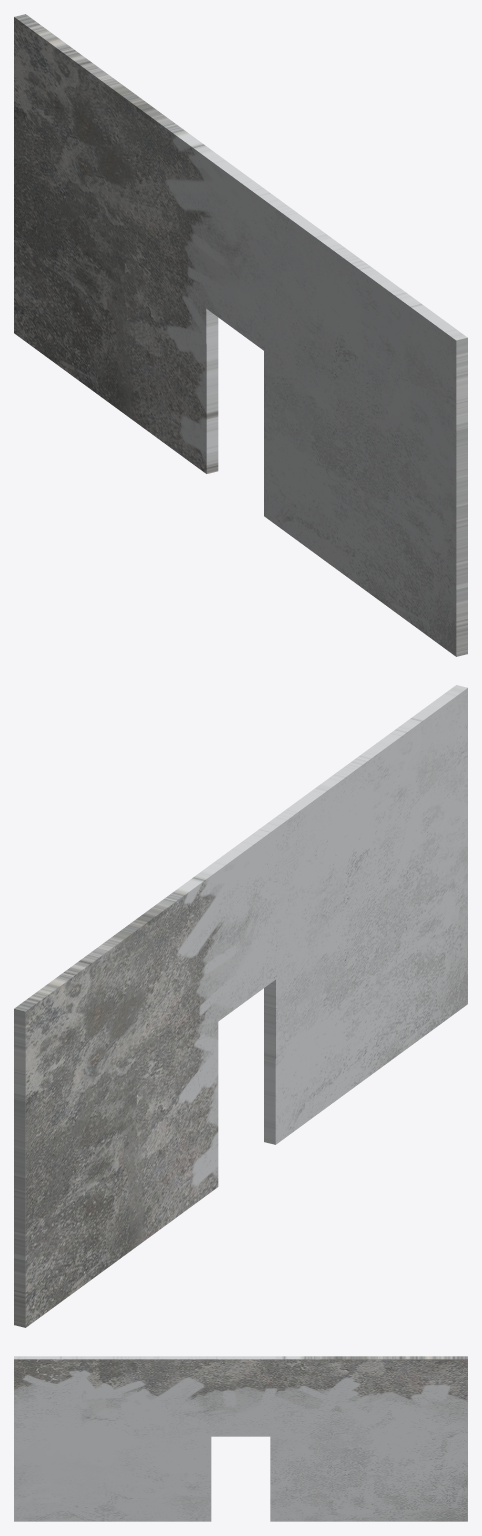
The model's file is doorwall (1).fbx.
3 renders of one model, top to bottom at view 1: azimuth 30°, elevation 25°; view 2: azimuth 150°, elevation 25°; view 3: azimuth 270°, elevation 25°, orthographic. The views are drawn at different scales.
Parts seen in each view (by area): view 1: JekRunway.001; view 2: JekRunway.001; view 3: JekRunway.001.
Boxes of the visible parts, left/top/right/bottom form: JekRunway.001: left=14, top=14, right=467, bottom=656; JekRunway.001: left=14, top=685, right=467, bottom=1327; JekRunway.001: left=14, top=1356, right=467, bottom=1521.
Size of the model in its own units: 35.49 by 906 by 2295.
